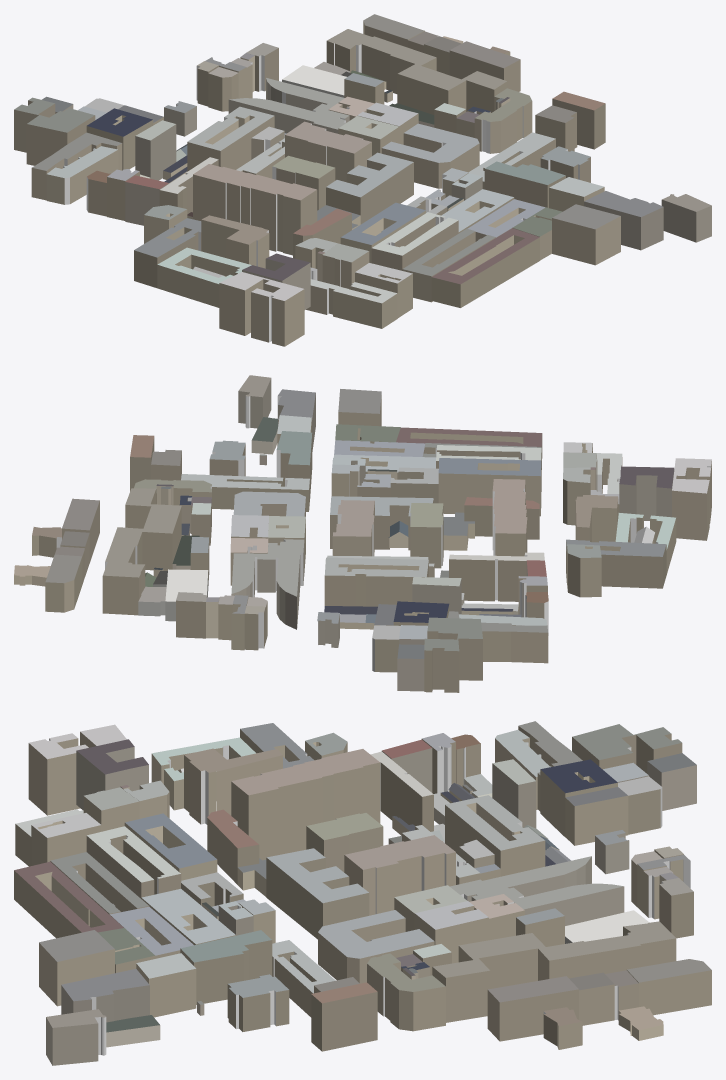
3 renders of one model, top to bottom at view 1: azimuth 30°, elevation 25°; view 2: azimuth 150°, elevation 25°; view 3: azimuth 270°, elevation 25°, orthographic. The views are drawn at different scales.
Visible parts, largest first — view 1: tuile; view 2: tuile; view 3: tuile.
Part boxes in pixels (left/top/right/bottom): tuile: left=14, top=14, right=711, bottom=346; tuile: left=14, top=375, right=711, bottom=692; tuile: left=14, top=721, right=711, bottom=1065.
Bounding box in the file's own units: 282 × 36.55 × 281.
